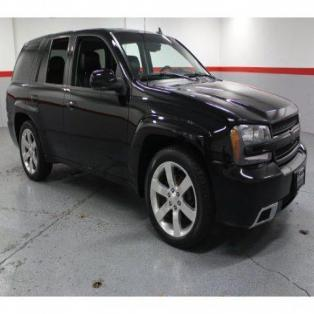Auto: (5, 17, 309, 255)
